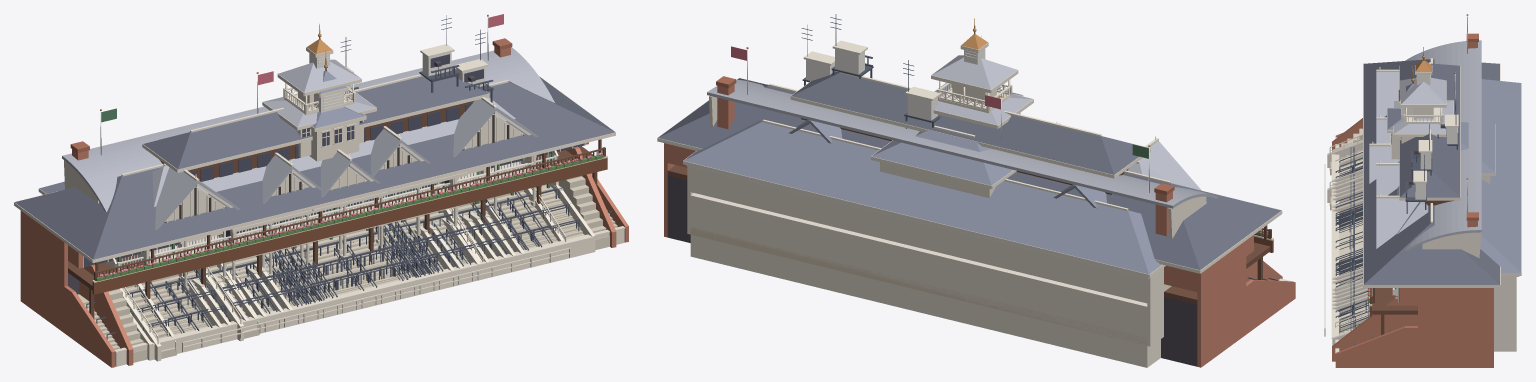
File: generic_stands_kit.glb
The picture shows the model from 3 angles, left to right: view 1: azimuth 30°, elevation 25°; view 2: azimuth 150°, elevation 25°; view 3: azimuth 270°, elevation 25°; orthographic projection. The views are drawn at different scales.
Parts seen in each view (by area): view 1: gen_garden_stand, gen_pavilion_stand, gen_cupola_stand, gen_veranda_stand, gen_pavilion_small, gen_terrace_20, gen_veranda_wing, gen_terrace_18, gen_terrace_24, gen_terrace_28, gen_terrace_32, gen_terrace_26 (+2 smaller); view 2: gen_veranda_stand, gen_garden_stand, gen_cupola_stand, gen_pavilion_stand; view 3: gen_garden_stand, gen_veranda_stand, gen_cupola_stand, gen_pavilion_stand, gen_pavilion_small, gen_veranda_wing, gen_terrace_32, gen_terrace_18, gen_terrace_24, gen_terrace_28, gen_terrace_20, gen_terrace_30 (+1 smaller).
Boxes of the visible parts, x1,y1,x2,y2 form: gen_garden_stand: (14, 15, 628, 367); gen_pavilion_stand: (119, 24, 570, 361); gen_cupola_stand: (62, 14, 616, 365); gen_veranda_stand: (38, 37, 595, 360); gen_pavilion_small: (195, 149, 487, 341); gen_terrace_20: (244, 223, 463, 321); gen_veranda_wing: (176, 166, 524, 342); gen_terrace_18: (254, 224, 454, 322); gen_terrace_24: (228, 217, 480, 332); gen_terrace_28: (210, 213, 498, 332); gen_terrace_32: (192, 209, 516, 333); gen_terrace_26: (218, 219, 489, 327); gen_veranda_stand: (683, 60, 1171, 367); gen_garden_stand: (657, 14, 1295, 367); gen_cupola_stand: (707, 25, 1282, 282); gen_pavilion_stand: (836, 18, 1201, 190); gen_garden_stand: (1335, 33, 1500, 367); gen_veranda_stand: (1331, 72, 1521, 351); gen_cupola_stand: (1332, 14, 1481, 361); gen_pavilion_stand: (1324, 47, 1453, 336); gen_pavilion_small: (1324, 141, 1399, 292); gen_veranda_wing: (1331, 170, 1367, 314); gen_terrace_32: (1331, 174, 1367, 305); gen_terrace_18: (1332, 199, 1362, 279); gen_terrace_24: (1331, 188, 1362, 290); gen_terrace_28: (1332, 181, 1367, 298); gen_terrace_20: (1332, 196, 1362, 285); gen_terrace_30: (1331, 183, 1367, 302).
Bounding box in the file's own units: 59.5 × 26.5 × 22.4.
